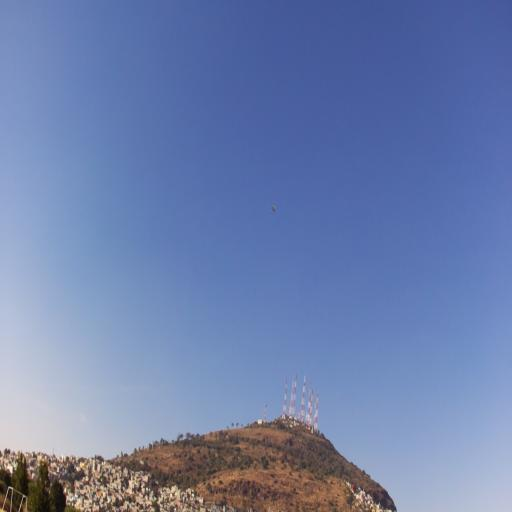drones: (269, 204, 277, 216)
